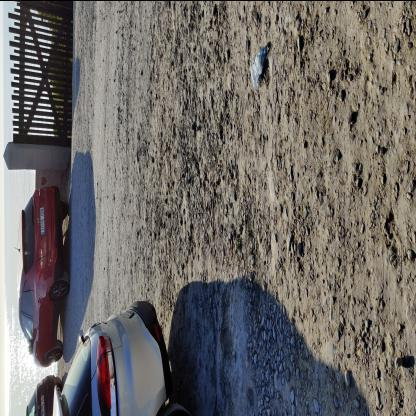plastik: (251, 47, 267, 92)
